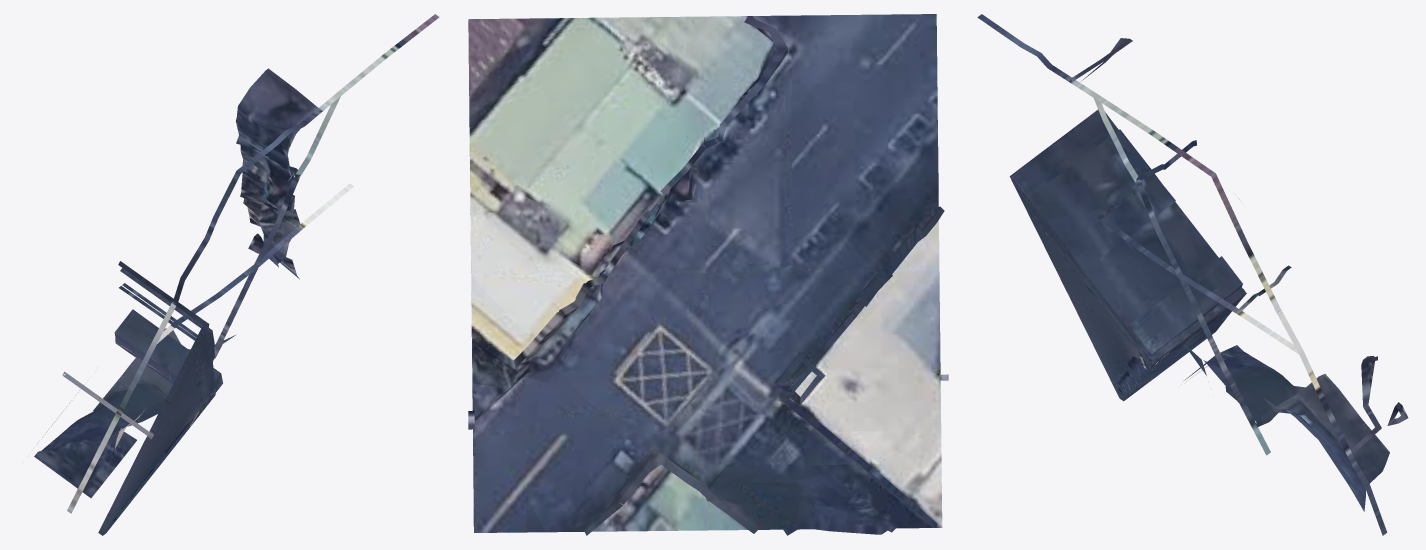
3 views of the same model, side by side, from view 1: azimuth 30°, elevation 25°; view 2: azimuth 150°, elevation 25°; view 3: azimuth 270°, elevation 25° (orthographic). The views are drawn at different scales.
Bounding box in the file's own units: 40.55 × 38.4 × 33.83.
Materials: 2 (2 with a texture image).
